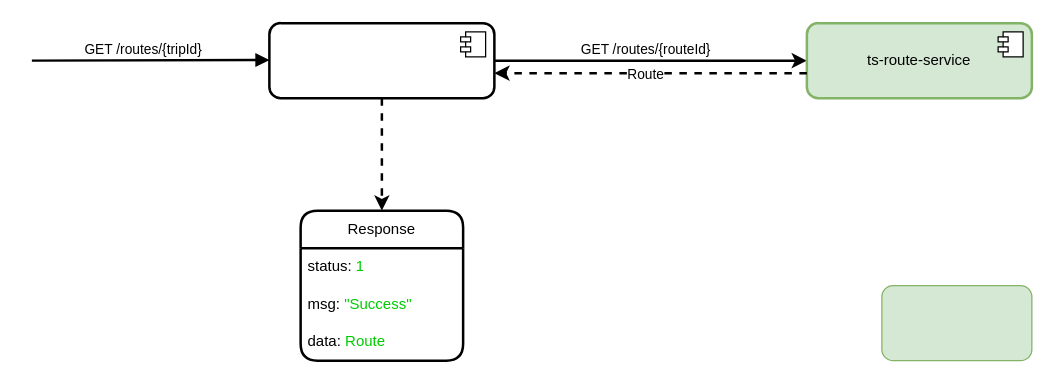
The diagram is 1054 pixels wide and 383 high, and some of its shapes have lost their labels. The shapes that lost their labels are listed below. From the top down, each one's centre as x and y in pixels, then its label:
At point 381,60: "ts-travel-service".
At point 956,322: "Service & Database".
